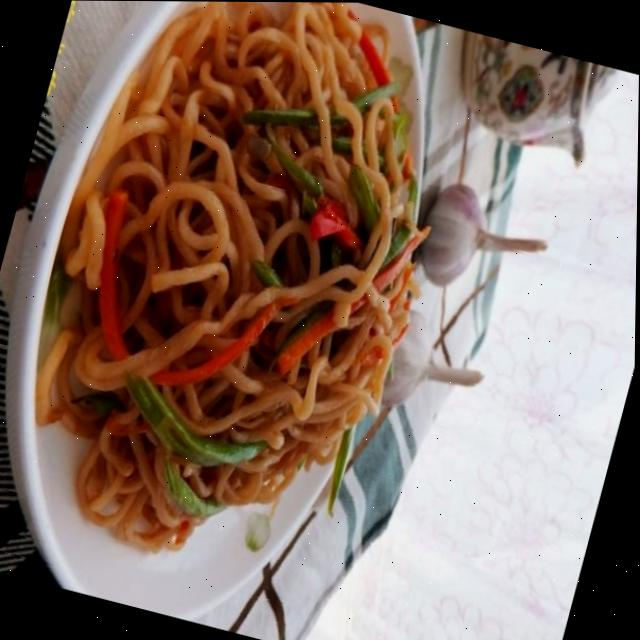面条主食: (0, 0, 482, 593)
